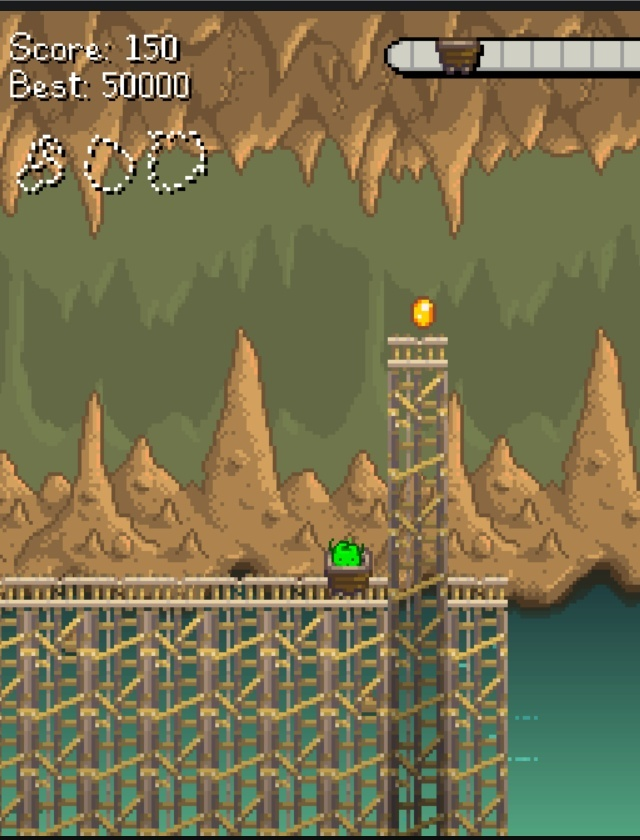coins: (413, 297, 434, 328)
minecart: (325, 538, 370, 594)
tracks: (2, 566, 320, 614), (440, 566, 512, 618), (384, 329, 454, 376)
